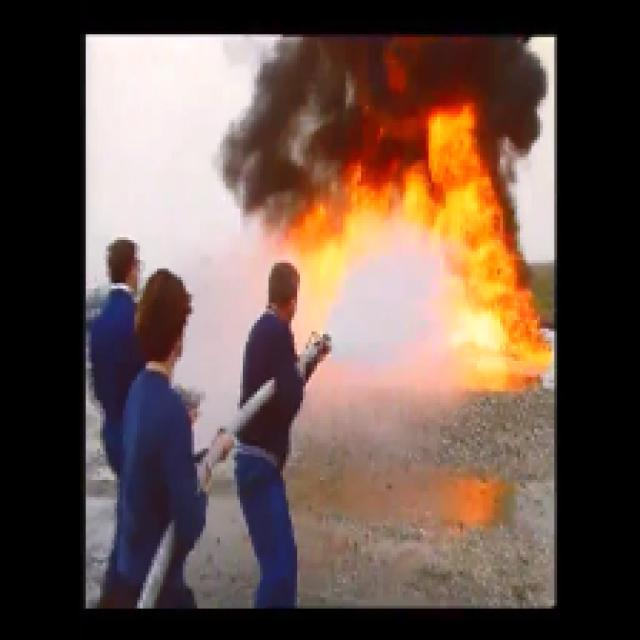fire: (228, 129, 384, 177), (432, 134, 487, 253)
smoke: (271, 35, 519, 119)
